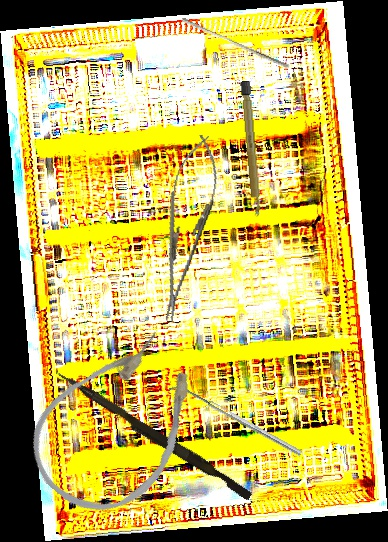Cannula: (9, 309, 229, 537)
Needle Holder: (145, 130, 227, 327)
Pusher: (52, 370, 256, 501), (179, 17, 292, 69)
Scalpel Handle: (240, 80, 262, 218)
Spatula Surgical: (168, 380, 303, 461)
